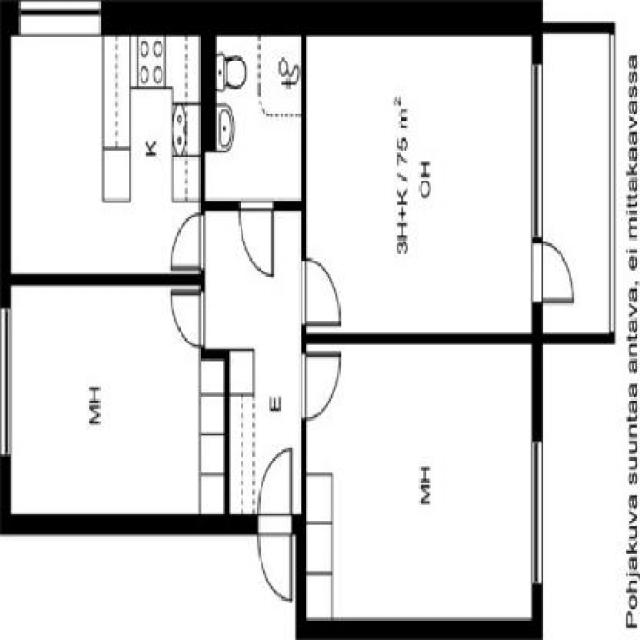door: (257, 449, 294, 608), (240, 202, 278, 283), (532, 240, 576, 308), (300, 258, 342, 328), (302, 354, 342, 418), (169, 288, 206, 346), (170, 209, 204, 271)
window: (532, 60, 545, 238), (20, 2, 98, 30), (532, 442, 542, 584), (1, 308, 10, 454)
zone: (305, 37, 532, 337), (306, 342, 532, 618), (11, 288, 226, 515), (11, 37, 200, 271), (205, 211, 302, 514), (542, 34, 609, 332), (205, 32, 300, 200)
